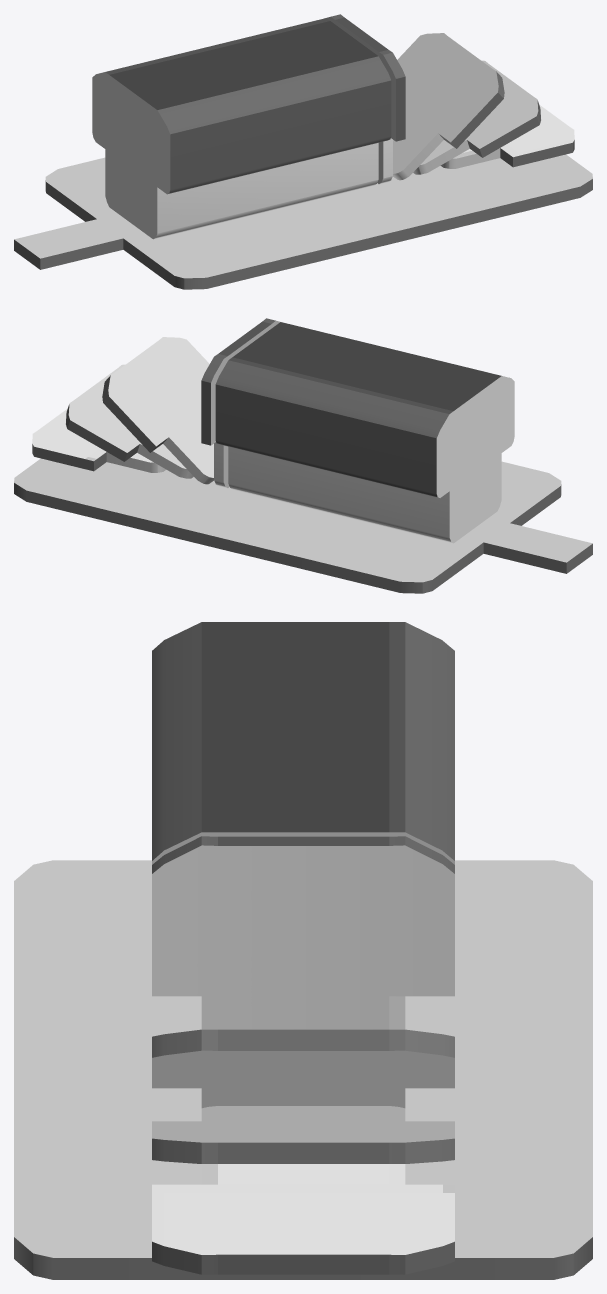
Rendered from BreadLoafModel.fbx.
3 views of the same model, one above another, from view 1: azimuth 30°, elevation 25°; view 2: azimuth 150°, elevation 25°; view 3: azimuth 270°, elevation 25° (orthographic). The views are drawn at different scales.
Visible parts, largest first — view 1: BreadLoafModel; view 2: BreadLoafModel; view 3: BreadLoafModel.
Boxes of the visible parts, x1,y1,x2,y2 form: BreadLoafModel: [14, 14, 592, 289]; BreadLoafModel: [14, 318, 592, 593]; BreadLoafModel: [14, 622, 592, 1279].
Size of the model in its own units: 113 by 29.85 by 55.77.
